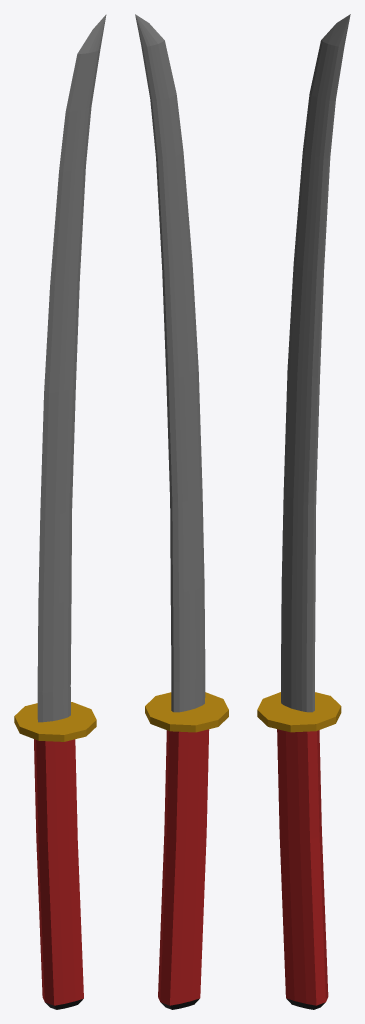
Rendered from Asian_Prop_Weapon_Katana_01.FBX.
3 views of the same model, side by side, from view 1: azimuth 30°, elevation 25°; view 2: azimuth 210°, elevation 25°; view 3: azimuth 330°, elevation 25° (orthographic). The views are drawn at different scales.
Visible parts, largest first — view 1: Asian_Prop_Weapon_Katana_01; view 2: Asian_Prop_Weapon_Katana_01; view 3: Asian_Prop_Weapon_Katana_01.
Boxes of the visible parts, box(x1,y1,x2,y2) form: Asian_Prop_Weapon_Katana_01: box(14, 14, 106, 1009); Asian_Prop_Weapon_Katana_01: box(135, 14, 228, 1009); Asian_Prop_Weapon_Katana_01: box(257, 14, 350, 1009).
Bounding box in the file's own units: 132 × 1434 × 104.
